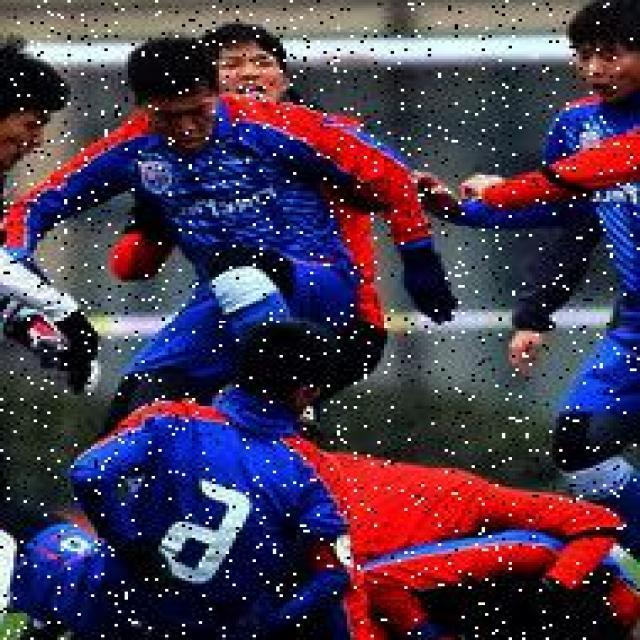fall: (172, 458, 624, 618)
